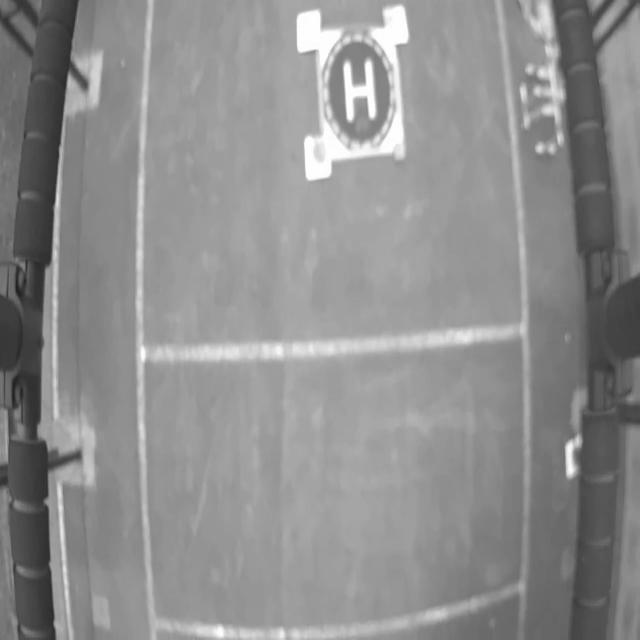Helipad: (343, 58, 377, 122)
